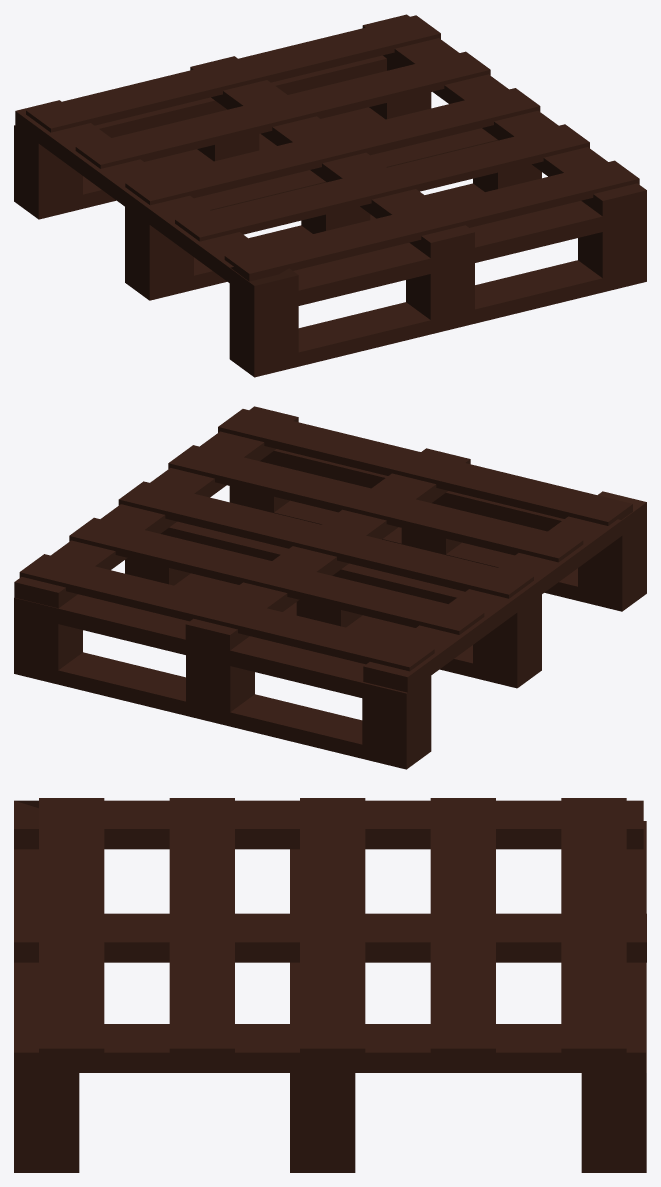
Rendered from crate.glb.
3 renders of one model, top to bottom at view 1: azimuth 30°, elevation 25°; view 2: azimuth 150°, elevation 25°; view 3: azimuth 270°, elevation 25°, orthographic. The views are drawn at different scales.
Visible parts, largest first — view 1: Cube; view 2: Cube; view 3: Cube.
Boxes of the visible parts, x1=… form: Cube: x1=14, y1=14, x2=646, y2=377; Cube: x1=14, y1=406, x2=646, y2=769; Cube: x1=14, y1=798, x2=646, y2=1172.
Bounding box in the file's own units: 2.67 × 0.6183 × 2.82.
